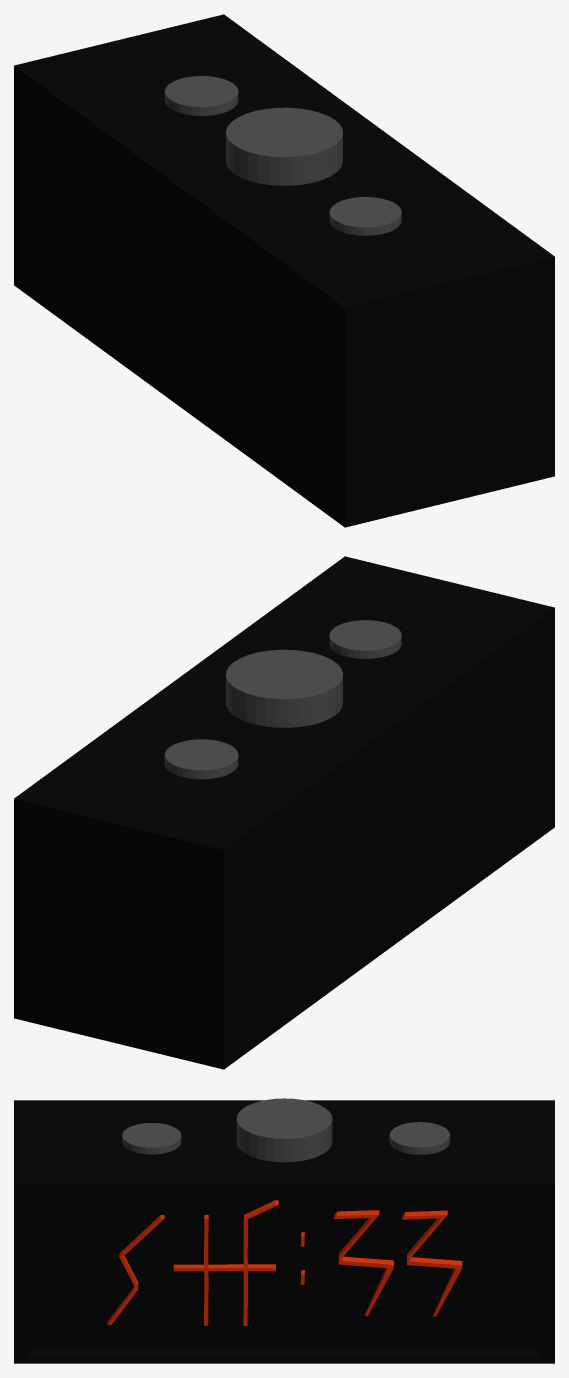
Rendered from clockblend.fbx.
3 views of the same model, one above another, from view 1: azimuth 30°, elevation 25°; view 2: azimuth 150°, elevation 25°; view 3: azimuth 270°, elevation 25° (orthographic). The views are drawn at different scales.
Visible parts, largest first — view 1: Cube, Cylinder, Cylinder.002, Cylinder.001; view 2: Cube, Cylinder, Cylinder.002, Cylinder.001; view 3: Cube, Cylinder, Cylinder.002, Cylinder.001, Plane.007, Plane.006, Plane, Plane.002, Plane.003, Plane.001.
Part boxes in pixels (x1,y1,x2,y2): Cube: (14, 14, 554, 527); Cylinder: (226, 107, 342, 185); Cylinder.002: (164, 76, 238, 115); Cylinder.001: (329, 197, 401, 235); Cube: (14, 556, 554, 1069); Cylinder: (226, 649, 342, 727); Cylinder.002: (164, 739, 238, 779); Cylinder.001: (329, 620, 401, 658); Cube: (14, 1100, 554, 1363); Cylinder: (236, 1098, 332, 1162); Cylinder.002: (389, 1122, 449, 1154); Cylinder.001: (122, 1123, 181, 1154); Plane.007: (402, 1210, 462, 1316); Plane.006: (334, 1210, 393, 1316); Plane: (107, 1215, 164, 1324); Plane.002: (243, 1200, 278, 1325); Plane.003: (173, 1264, 275, 1271); Plane.001: (204, 1215, 208, 1325).
Bounding box in the file's own units: 200 × 226 × 546.
